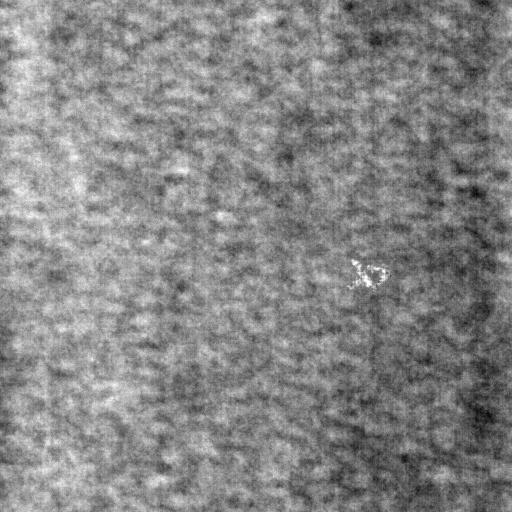DefectTypeA: (348, 256, 390, 291)
